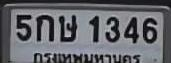1: (88, 15, 98, 41)
3: (104, 16, 119, 42)
4: (123, 16, 138, 43)
5: (15, 14, 31, 40)
6: (142, 17, 156, 43)
A01: (35, 14, 53, 41)
A39: (58, 14, 76, 41)
